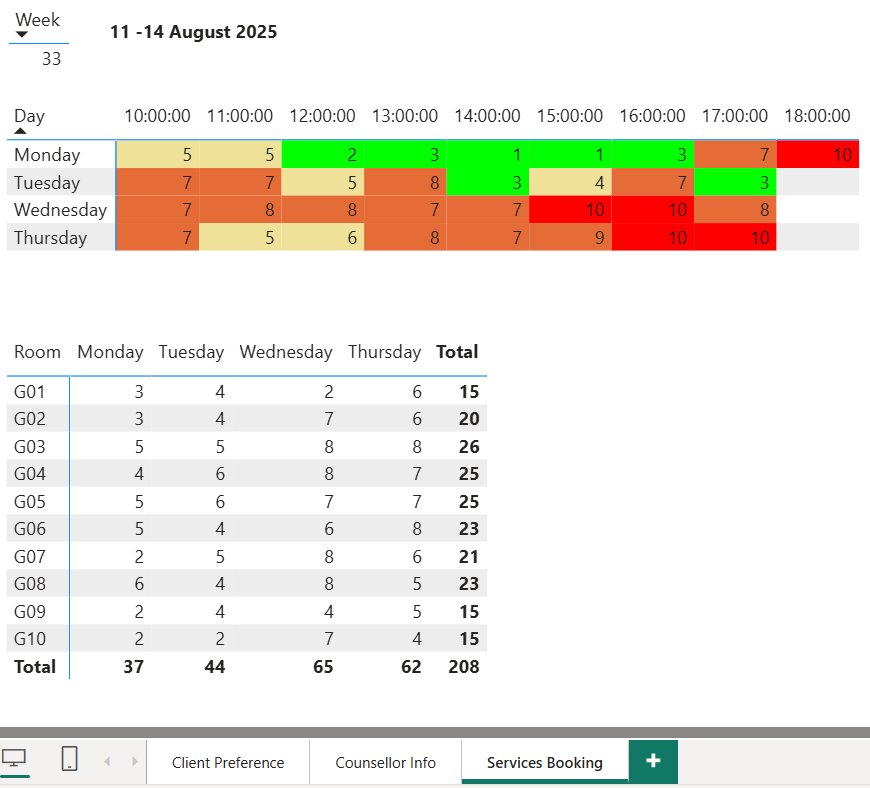

The page's visual inventory and layout, read from the dashboard file:
{"tool":"powerbi","page":{"name":"Services Booking","canvas":[1280,720],"ordinal":2},"visuals":[{"type":"pivotTable","fields":{"Rows":["booking.Day"],"Columns":["booking.Time"],"Values":["Count(booking.Room)"]},"box":[0,70,657.3,148.2],"z":0},{"type":"tableEx","fields":{"Values":["booking.Week"]},"box":[0,0,85,60],"z":1000},{"type":"actionButton","box":[815,0,100,40],"z":2000},{"type":"pivotTable","fields":{"Rows":["booking.Room"],"Columns":["booking.Day"],"Values":["CountNonNull(booking.Service)"]},"box":[0,241.5,413,278.6],"z":3000},{"type":"textbox","box":[74.1,11,178.4,37],"z":3001}]}

Visuals, with their boxes on the page's 1280x720 design canvas (x1, y1, x2, y2). These are canvas units, not pixel positions in the 870x788 screenshot, which may show the page scaled, cropped or inside an application window:
pivotTable - booking.Day x booking.Time: 0/70/657/218
tableEx - booking.Week: 0/0/85/60
actionButton: 815/0/915/40
pivotTable - booking.Room x booking.Day: 0/242/413/520
textbox: 74/11/252/48
